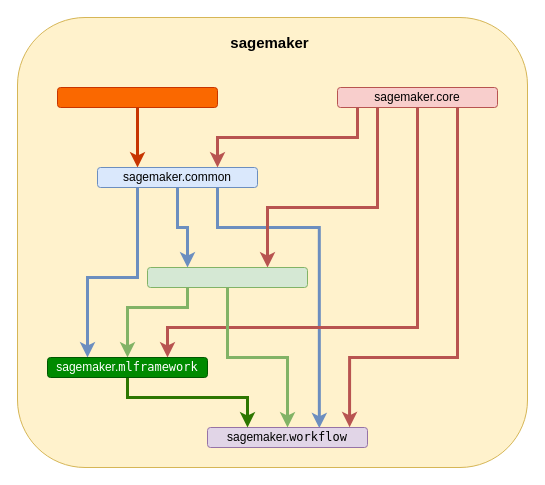
Some shapes in this 545 by 485 pixel diagram are drawn without their labels. The shapes that lost their labels are listed below. From the top down, each one's centre as x and y in pixels, then its label:
At [137,97]: "sagemaker.debugger".
At [227,277]: "sagemaker.mlcore".
